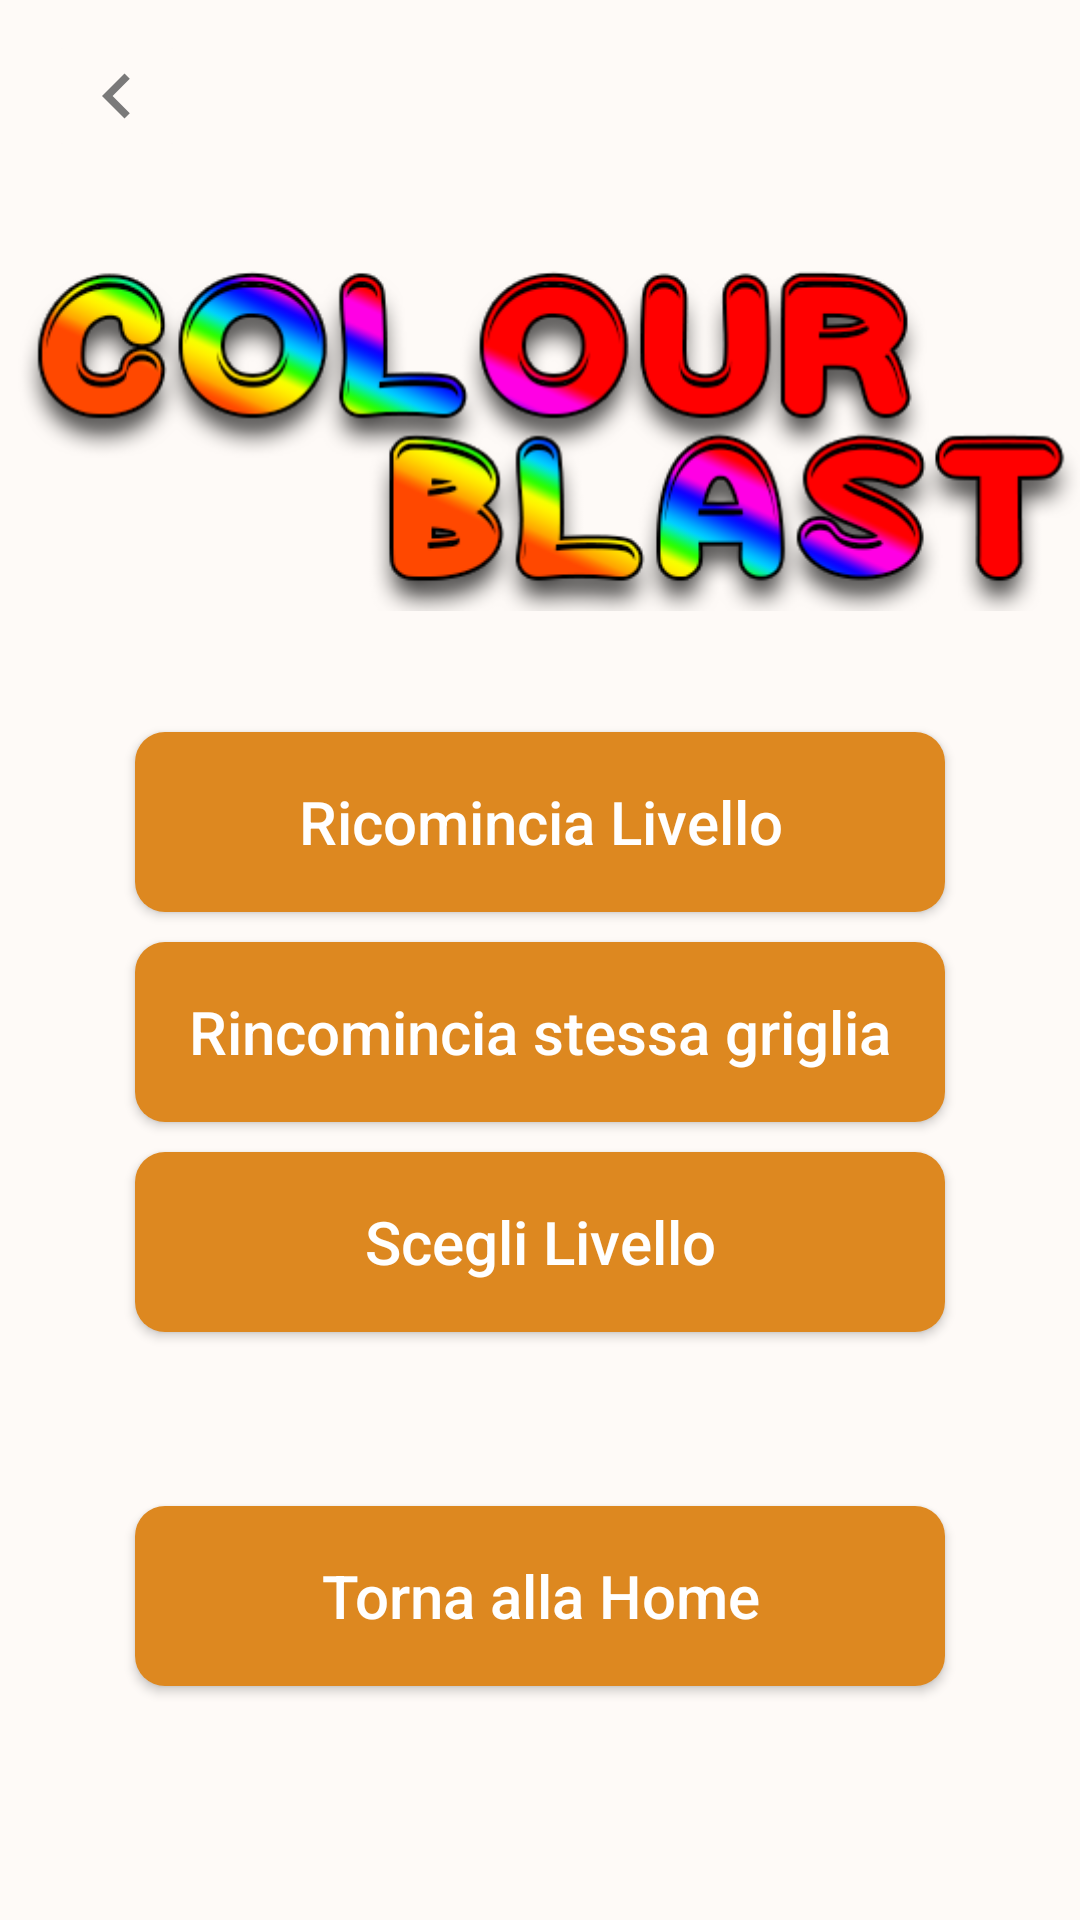

Screen size 1080px×1920px. Icon name, then its box in pixels as (x1, y1, x2, y2):
backbutton: (102, 73, 130, 119)
